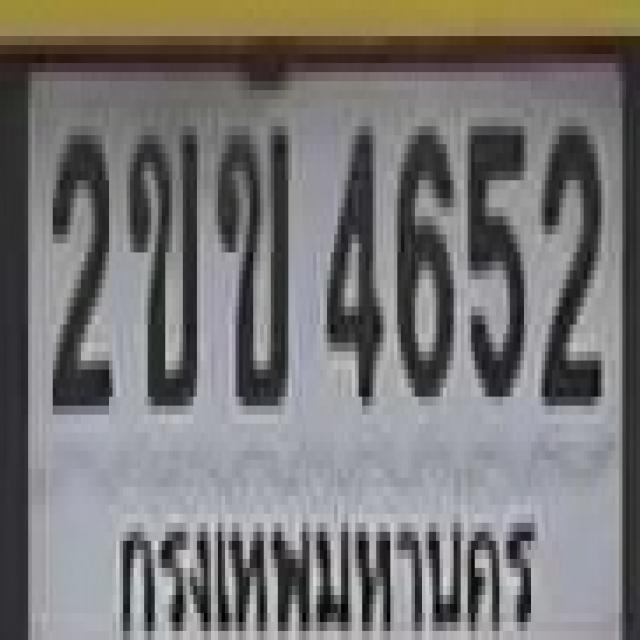-: (214, 117, 285, 397), (127, 122, 197, 401)
2: (538, 117, 598, 397), (49, 126, 109, 406)
4: (323, 117, 380, 397)
5: (464, 122, 521, 392)
6: (394, 117, 450, 388)
BKK: (102, 475, 538, 640)
